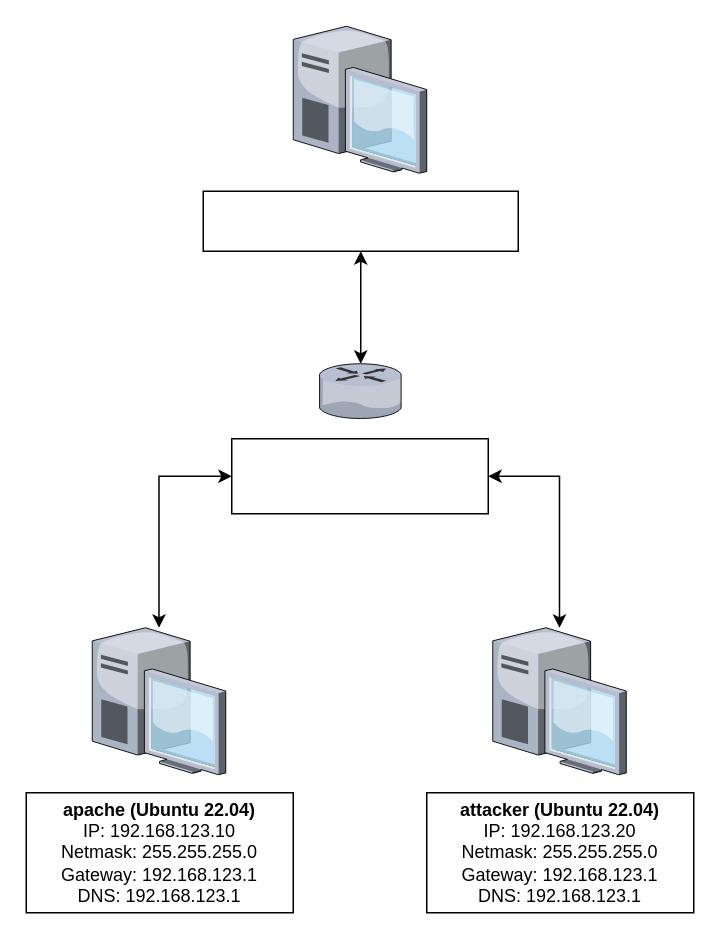
Image size: 720x939. Some labels were removed from this diagram. The centre of each missing label's shape, as x and y in pixels:
"CSE 498 (Ubuntu 22.04 Desktop)" belongs at pixel 360 220.
"Docker Network Interface IP: 192.168.123.1/24" belongs at pixel 359 475.
